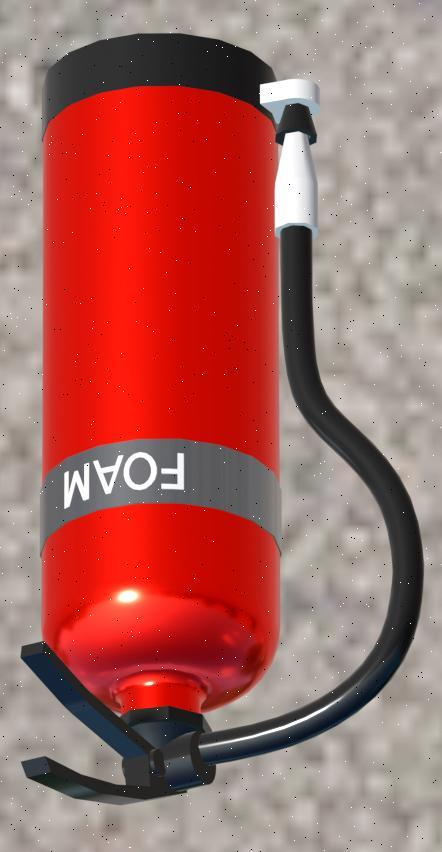Fire Extinguisher: (2, 20, 442, 805)
